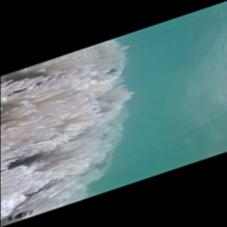bleached_corals: (0, 41, 132, 227)
